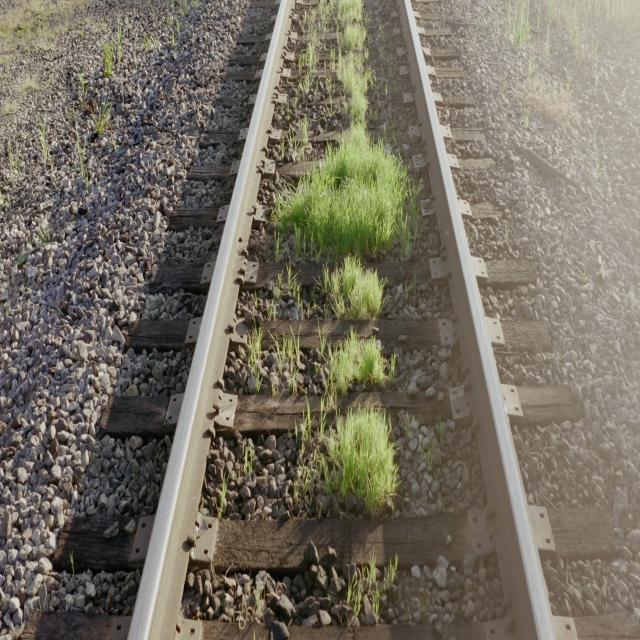Plant: (276, 0, 410, 320), (320, 333, 398, 516), (346, 567, 380, 620), (275, 338, 300, 371), (250, 338, 260, 353), (305, 411, 310, 440)
